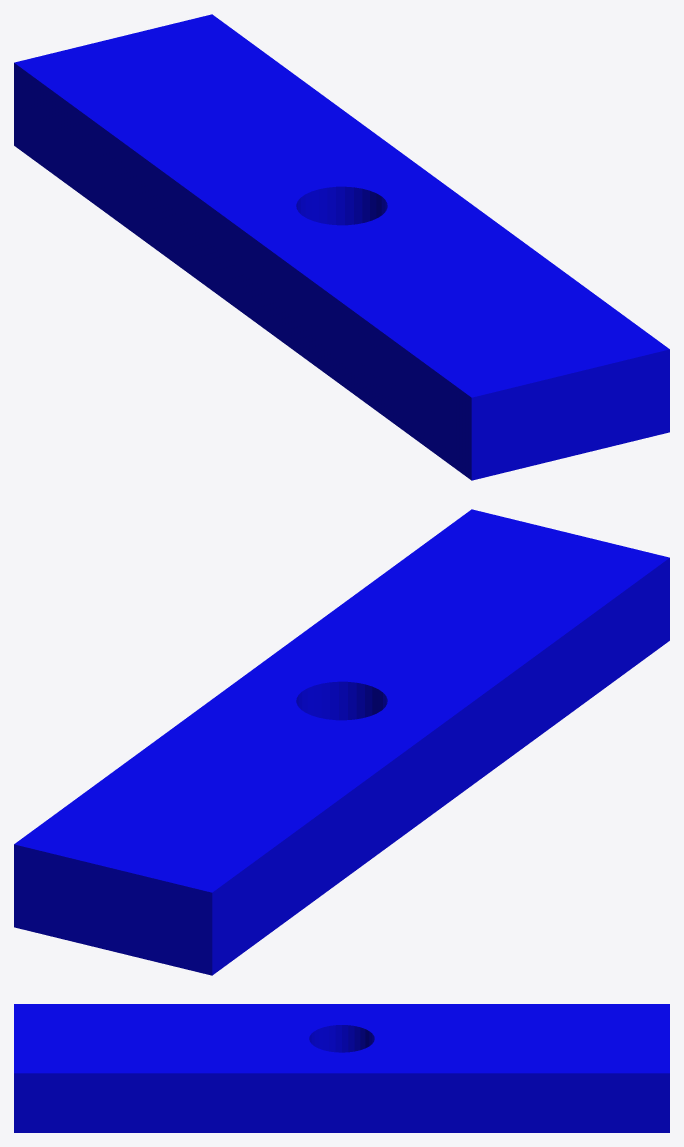
File: cube_with_hole.glb
3 views of the same model, one above another, from view 1: azimuth 30°, elevation 25°; view 2: azimuth 150°, elevation 25°; view 3: azimuth 270°, elevation 25° (orthographic). The views are drawn at different scales.
Parts seen in each view (by area): view 1: Cube; view 2: Cube; view 3: Cube.
Part boxes in pixels (<box>): Cube: <box>14,14,669,480</box>; Cube: <box>14,509,669,975</box>; Cube: <box>14,1004,669,1132</box>.
Size of the model in its own units: 5 by 2 by 20.
